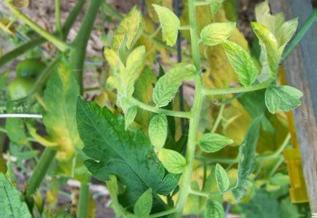Tomato leaf yellow virus: (40, 33, 93, 186), (141, 58, 194, 107), (215, 40, 257, 93), (142, 109, 173, 169), (198, 16, 238, 51)
